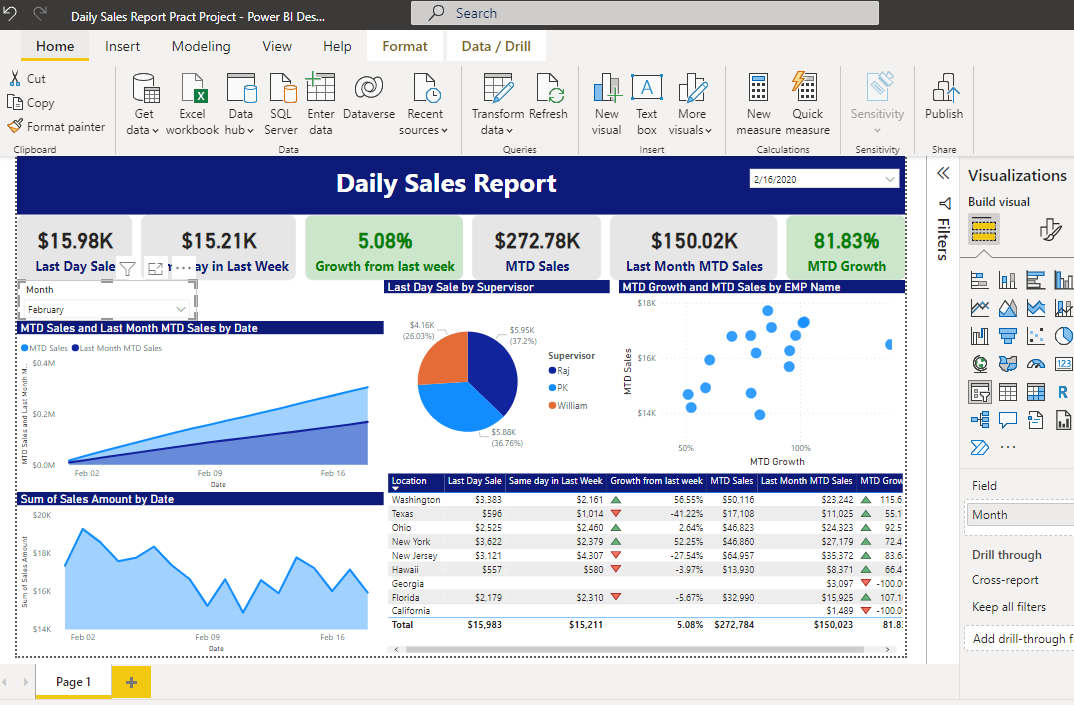

This screenshot's page, from the dashboard's own definition file:
{"tool":"powerbi","page":{"name":"Page 1","canvas":[1280,720],"ordinal":0},"visuals":[{"type":"shape","box":[0,0,1280.2,83.5],"z":0},{"type":"card","fields":{"Values":["DSR.Last Day Sale"]},"box":[0,85,165.6,93.6],"z":0,"group":"g1"},{"type":"card","fields":{"Values":["DSR.Same day in Last Week"]},"box":[178.6,85,223.2,93.6],"z":1000,"group":"g1"},{"type":"textbox","box":[345.6,7.2,544.3,67.7],"z":1000},{"type":"card","fields":{"Values":["DSR.Growth from last week"]},"box":[414.8,85,227.5,93.6],"z":2000,"group":"g1"},{"type":"group","id":"g1","title":"Group 1","box":[0,85,1280.2,93.6],"z":2000},{"type":"card","fields":{"Values":["DSR.MTD Sales"]},"box":[655.3,85,185.8,93.6],"z":3000,"group":"g1"},{"type":"slicer","fields":{"Values":["Calendar.Date"]},"box":[1045.4,8.6,234.7,76.3],"z":3000},{"type":"card","fields":{"Values":["DSR.Last Month MTD Sales"]},"box":[854,85,240.5,93.6],"z":4000,"group":"g1"},{"type":"slicer","fields":{"Values":["Calendar.Month"]},"box":[0,178.6,259.2,59],"z":4000},{"type":"card","fields":{"Values":["DSR.MTD Growth"]},"box":[1107.3,85,172.8,93.6],"z":5000,"group":"g1"},{"type":"areaChart","fields":{"Category":["Calendar.Date"],"Y":["DSR.MTD Sales","DSR.Last Month MTD Sales"]},"box":[0,237.6,528.5,246.2],"z":5000},{"type":"areaChart","fields":{"Category":["Calendar.Date"],"Y":["DSR.Sales Amount"]},"box":[0,483.8,528.5,236.2],"z":6000},{"type":"pieChart","fields":{"Category":["DSR.Supervisor"],"Y":["DSR.Last Day Sale"]},"box":[528.5,178.6,325.4,273.6],"z":7000},{"type":"scatterChart","fields":{"Category":["DSR.EMP Name"],"Y":["DSR.MTD Sales"],"X":["DSR.MTD Growth"]},"box":[866.9,178.6,413.3,273.6],"z":8000},{"type":"tableEx","fields":{"Values":["DSR.Location","DSR.Last Day Sale","DSR.Same day in Last Week","DSR.Growth from last week","DSR.MTD Sales","DSR.Last Month MTD Sales","DSR.MTD Growth"]},"box":[528.5,452.2,751.7,267.8],"z":9000}]}

Visuals, with their boxes on the page's 1280x720 design canvas (x1, y1, x2, y2). These are canvas units, not pixel positions in the 1074x705 screenshot, which may show the page scaled, cropped or inside an application window:
shape: x1=0 y1=0 x2=1280 y2=84
card - DSR.Last Day Sale: x1=0 y1=85 x2=166 y2=179
card - DSR.Same day in Last Week: x1=179 y1=85 x2=402 y2=179
textbox: x1=346 y1=7 x2=890 y2=75
card - DSR.Growth from last week: x1=415 y1=85 x2=642 y2=179
"Group 1" group: x1=0 y1=85 x2=1280 y2=179
card - DSR.MTD Sales: x1=655 y1=85 x2=841 y2=179
slicer - Calendar.Date: x1=1045 y1=9 x2=1280 y2=85
card - DSR.Last Month MTD Sales: x1=854 y1=85 x2=1094 y2=179
slicer - Calendar.Month: x1=0 y1=179 x2=259 y2=238
card - DSR.MTD Growth: x1=1107 y1=85 x2=1280 y2=179
areaChart - Calendar.Date x DSR.MTD Sales: x1=0 y1=238 x2=528 y2=484
areaChart - Calendar.Date x DSR.Sales Amount: x1=0 y1=484 x2=528 y2=720
pieChart - DSR.Supervisor x DSR.Last Day Sale: x1=528 y1=179 x2=854 y2=452
scatterChart - DSR.EMP Name x DSR.MTD Sales: x1=867 y1=179 x2=1280 y2=452
tableEx - DSR.Location x DSR.Last Day Sale: x1=528 y1=452 x2=1280 y2=720
